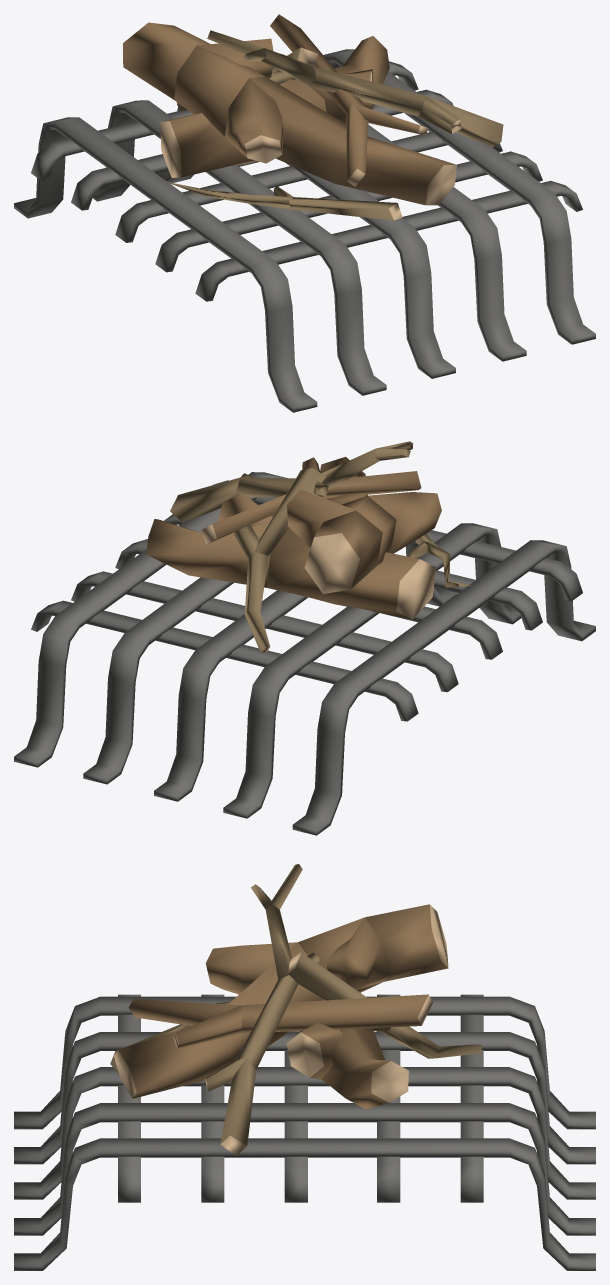
File: rpgpp_ag_fireplace_01b.fbx
3 renders of one model, top to bottom at view 1: azimuth 30°, elevation 25°; view 2: azimuth 150°, elevation 25°; view 3: azimuth 270°, elevation 25°, orthographic. The views are drawn at different scales.
Parts seen in each view (by area): view 1: rpgpp_ag_fireplace_01b; view 2: rpgpp_ag_fireplace_01b; view 3: rpgpp_ag_fireplace_01b.
Boxes of the visible parts, x1=… form: rpgpp_ag_fireplace_01b: x1=14, y1=14, x2=595, y2=412; rpgpp_ag_fireplace_01b: x1=14, y1=441, x2=595, y2=835; rpgpp_ag_fireplace_01b: x1=14, y1=864, x2=595, y2=1270.
Bounding box in the file's own units: 1.14 × 0.7788 × 1.46.
